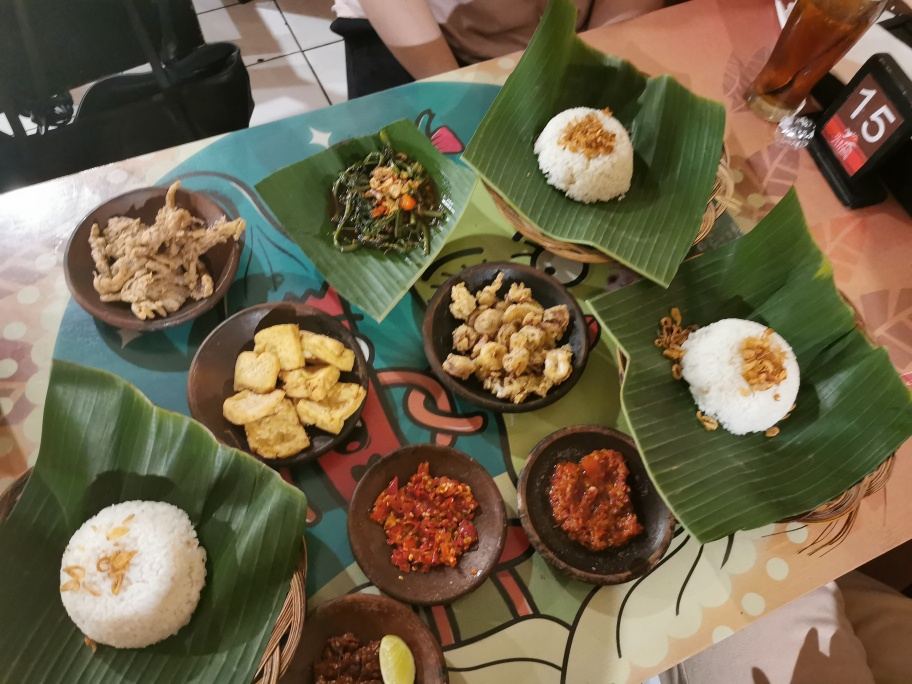nasi putih: (56, 496, 209, 647), (676, 315, 803, 438), (535, 104, 635, 203)
